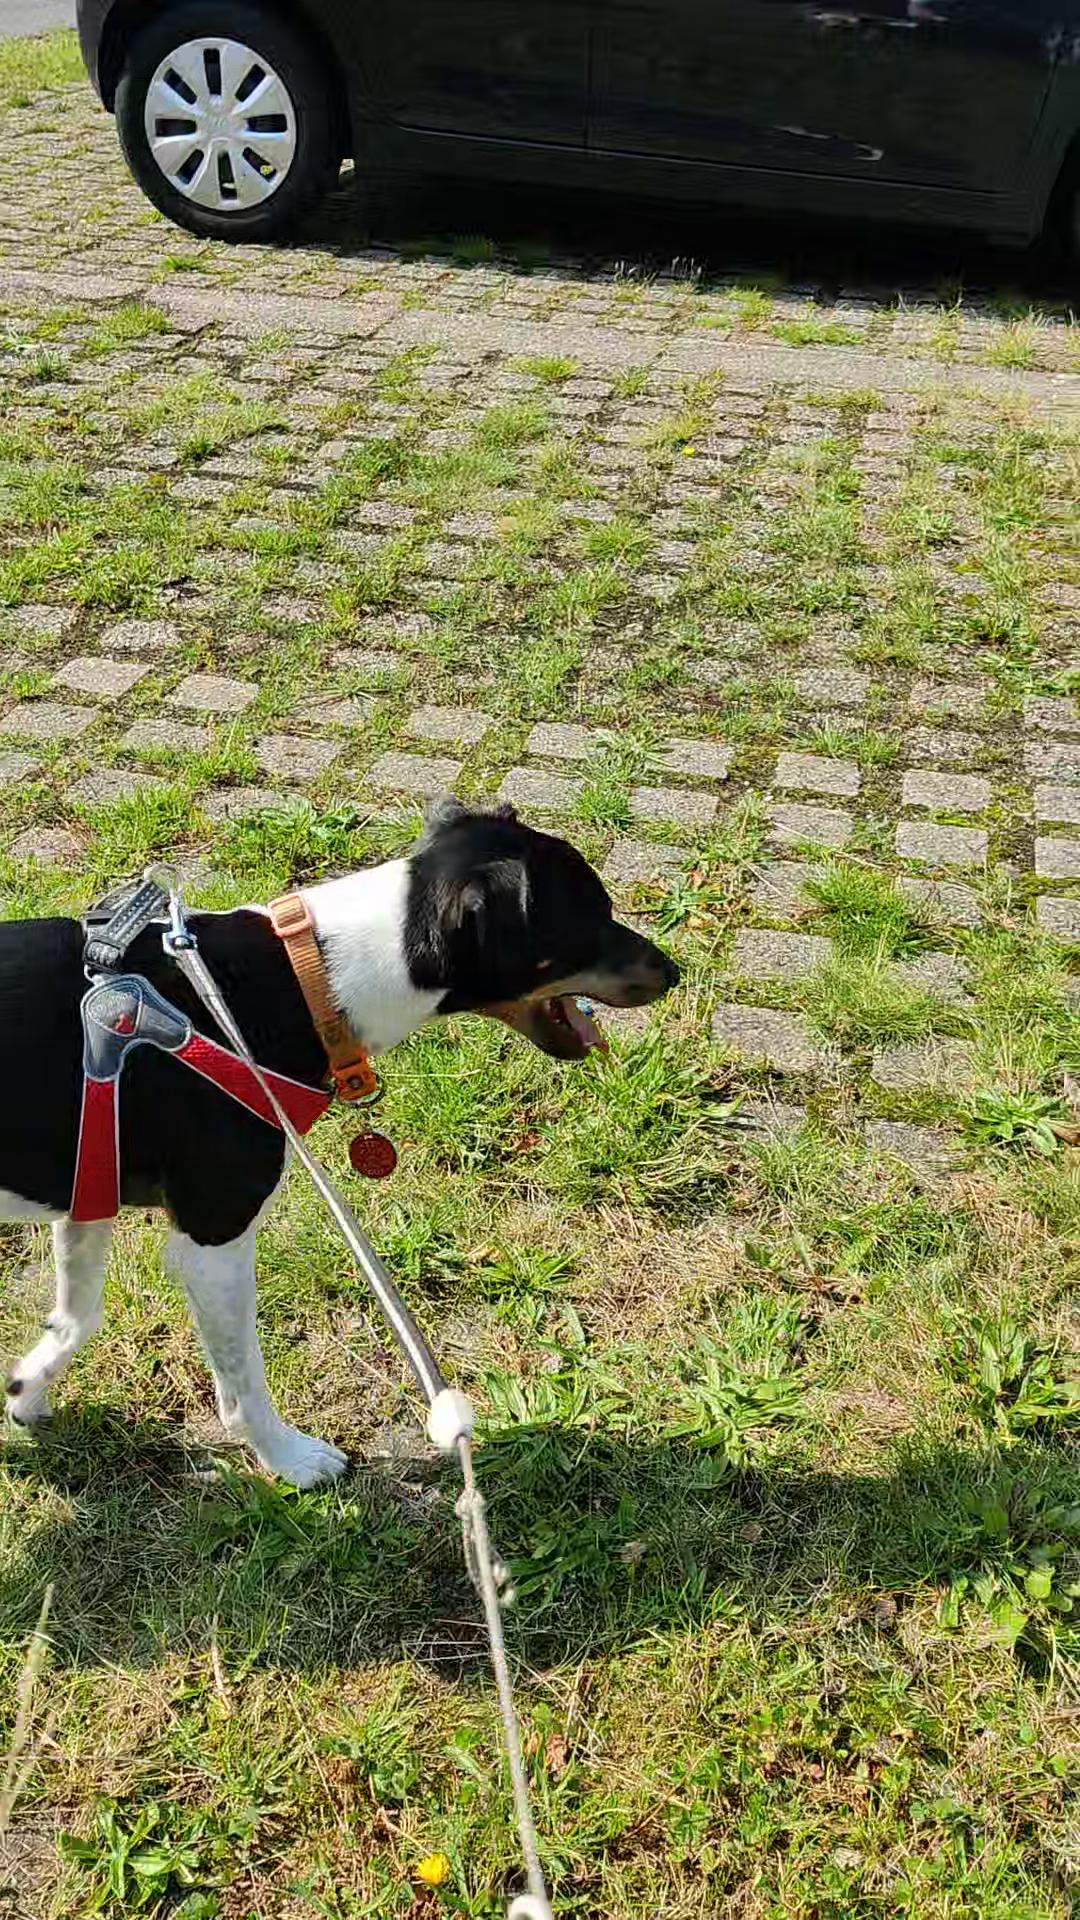Dog: (0, 783, 686, 1509)
